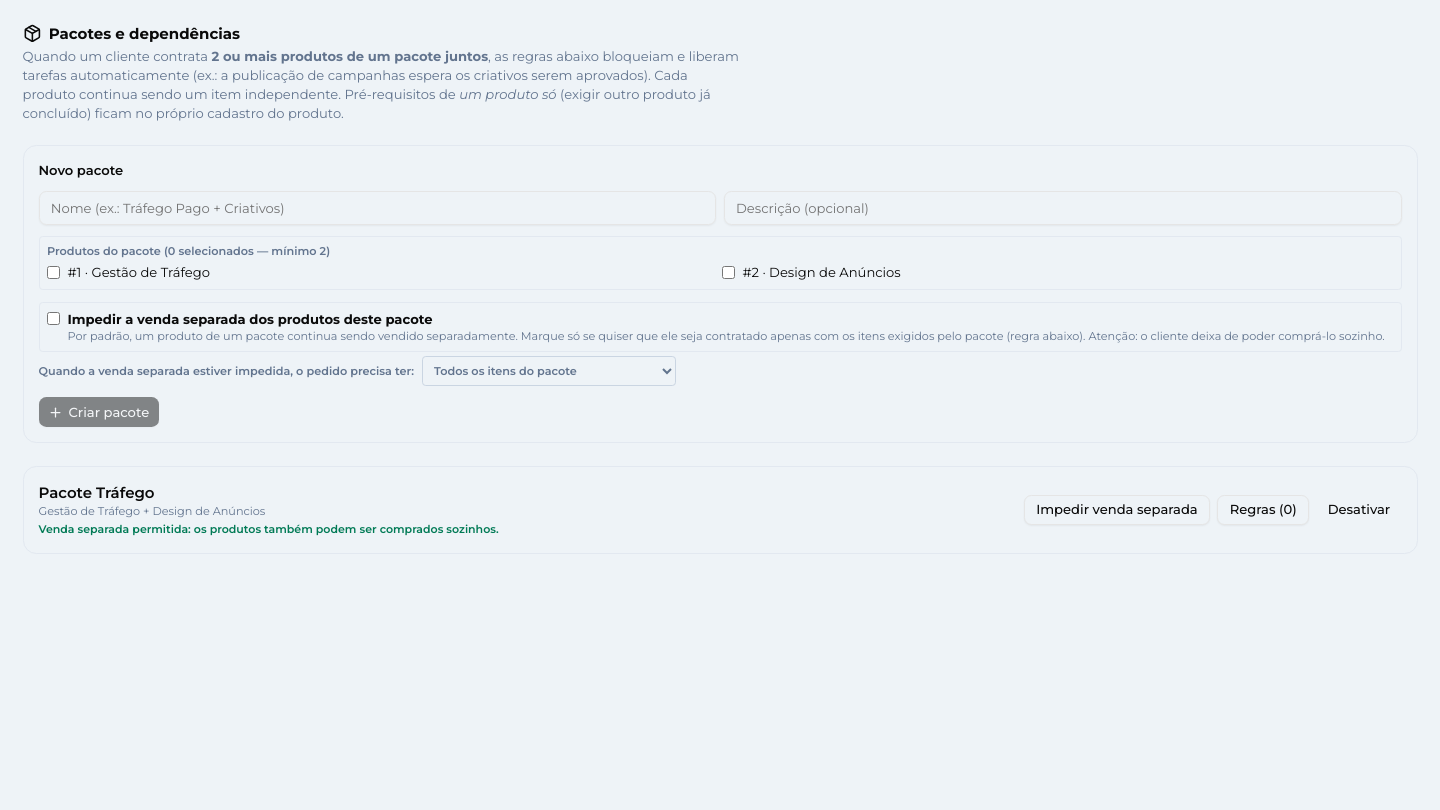
Scenario: Pacotes e dependências · impedir a venda separada › impedir a venda separada exige confirmação com aviso claro e só então grava
The width and height of the screenshot is (1440, 810).
Later steps or results of the test are not shown.
Click the button with test id "package-solo-toggle": [1117, 510] box [1024, 495, 1210, 525]
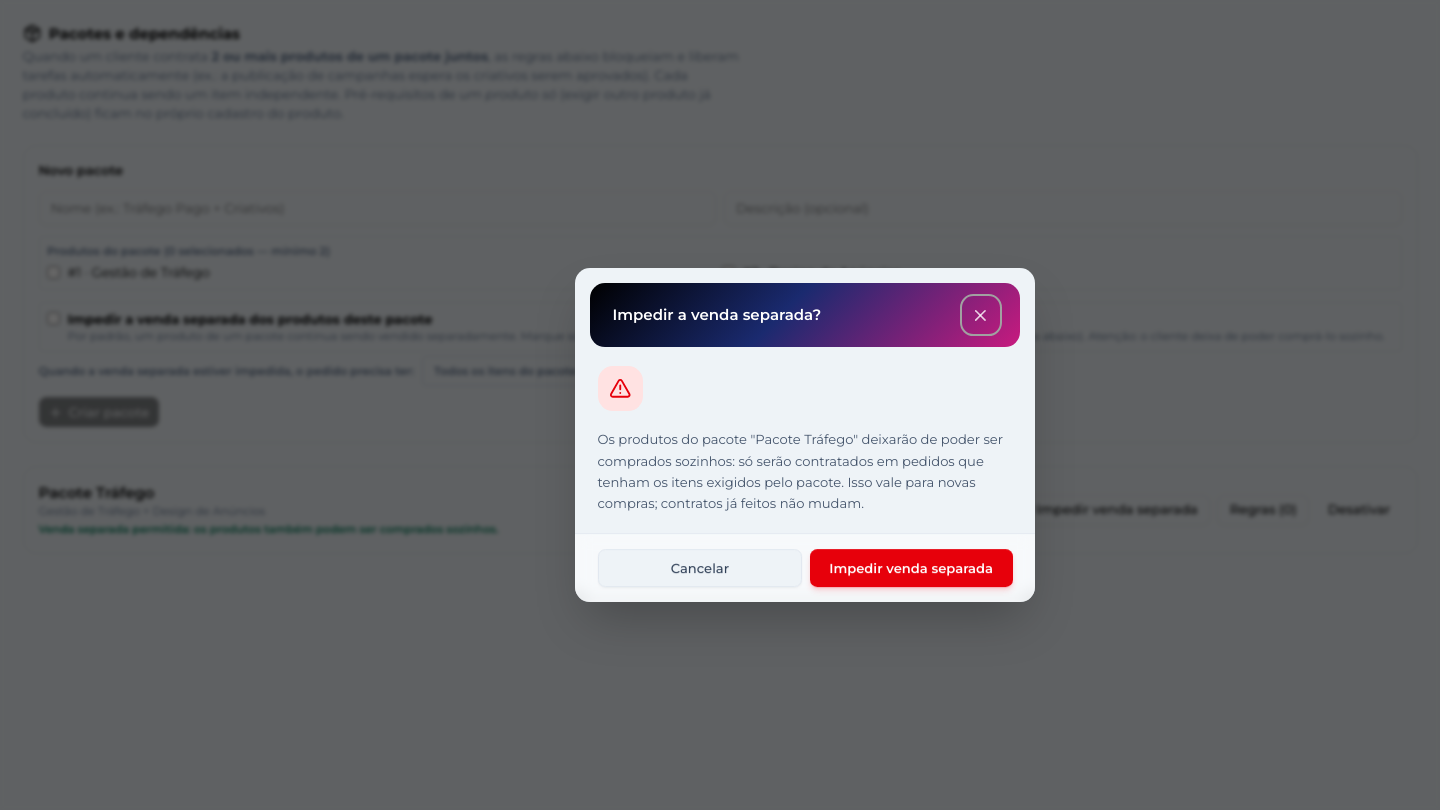
Result: the text "contratos já feitos não mudam" is shown at [598, 431, 1003, 511]
